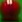brown: (0, 0, 22, 22)
